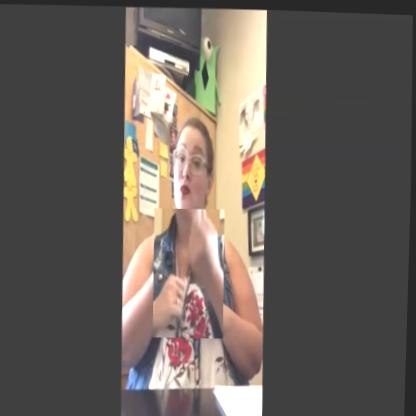HowAreYou: (152, 205, 227, 337)
